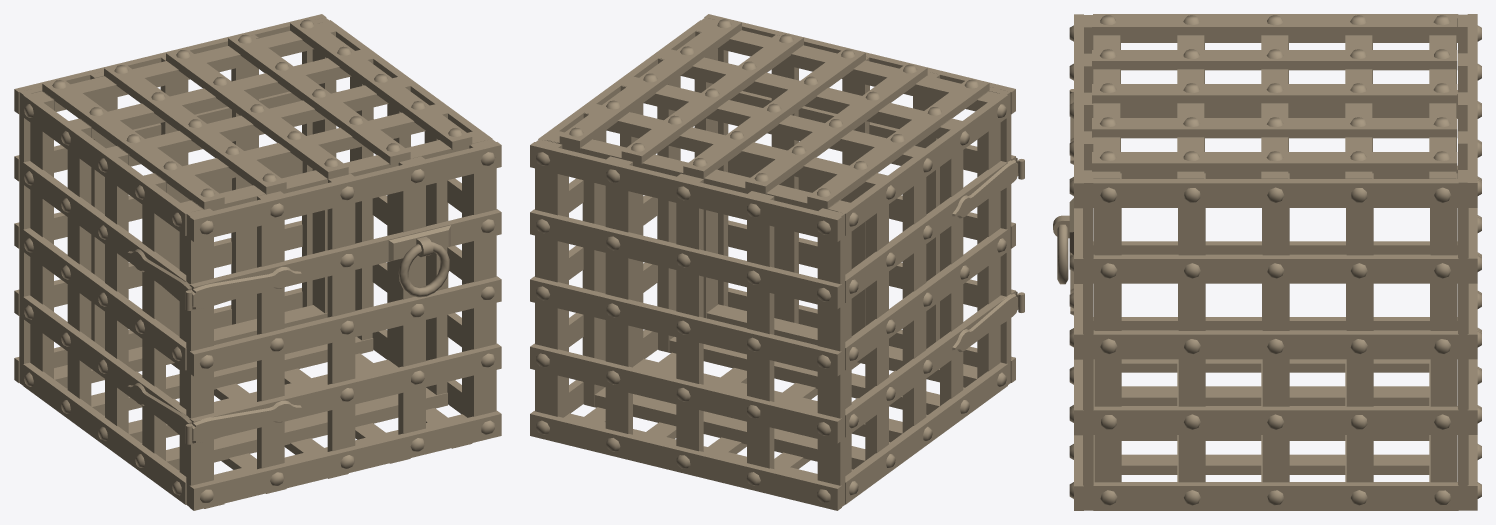
The model's file is Cage_Small.gltf.
3 renders of one model, left to right at view 1: azimuth 30°, elevation 25°; view 2: azimuth 150°, elevation 25°; view 3: azimuth 270°, elevation 25°, orthographic. The views are drawn at different scales.
Parts seen in each view (by area): view 1: Cage_Small; view 2: Cage_Small; view 3: Cage_Small.
Part boxes in pixels (bbox=[...]): Cage_Small: bbox=[14, 14, 501, 510]; Cage_Small: bbox=[530, 14, 1024, 510]; Cage_Small: bbox=[1053, 14, 1481, 510].
Bounding box in the file's own units: 0.8549 × 0.8052 × 0.8843.
